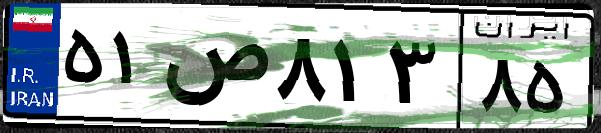1: (330, 28, 385, 110), (110, 28, 158, 98)
3: (385, 28, 445, 110)
5: (57, 26, 110, 100), (525, 38, 570, 115)
8: (270, 28, 330, 110), (475, 38, 525, 113)
ص: (158, 20, 270, 120)
